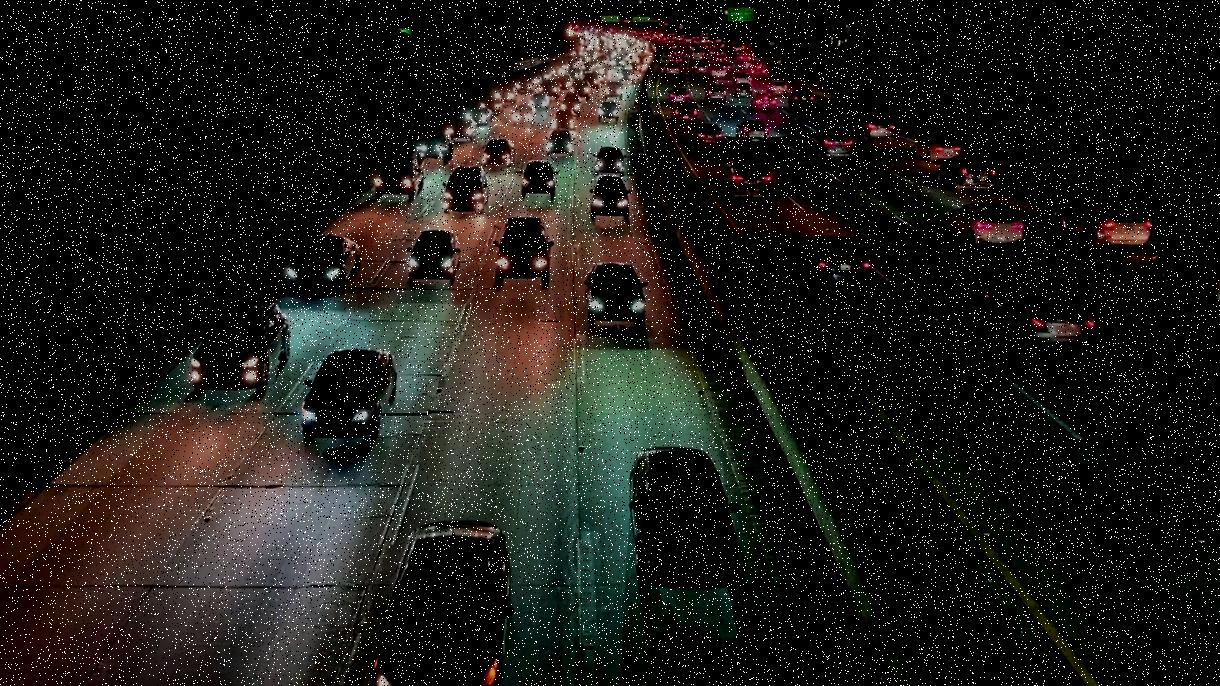car: (365, 516, 519, 686), (618, 439, 749, 599), (299, 348, 402, 448), (980, 282, 1103, 364), (189, 301, 293, 396), (1051, 191, 1151, 254), (787, 229, 874, 292), (1148, 247, 1220, 315), (488, 216, 555, 288), (940, 199, 1024, 256), (580, 262, 650, 322), (286, 236, 360, 290), (404, 229, 464, 282), (440, 165, 492, 216), (374, 157, 429, 203), (936, 156, 998, 193), (587, 173, 634, 220), (717, 159, 767, 197), (853, 107, 899, 141), (520, 160, 560, 199), (809, 127, 853, 162), (913, 134, 960, 164), (480, 137, 517, 166), (592, 147, 629, 175), (735, 119, 775, 143), (688, 122, 725, 147), (545, 131, 573, 156), (750, 91, 780, 114), (669, 101, 699, 122), (788, 89, 815, 109), (598, 101, 622, 121), (703, 86, 727, 104)
